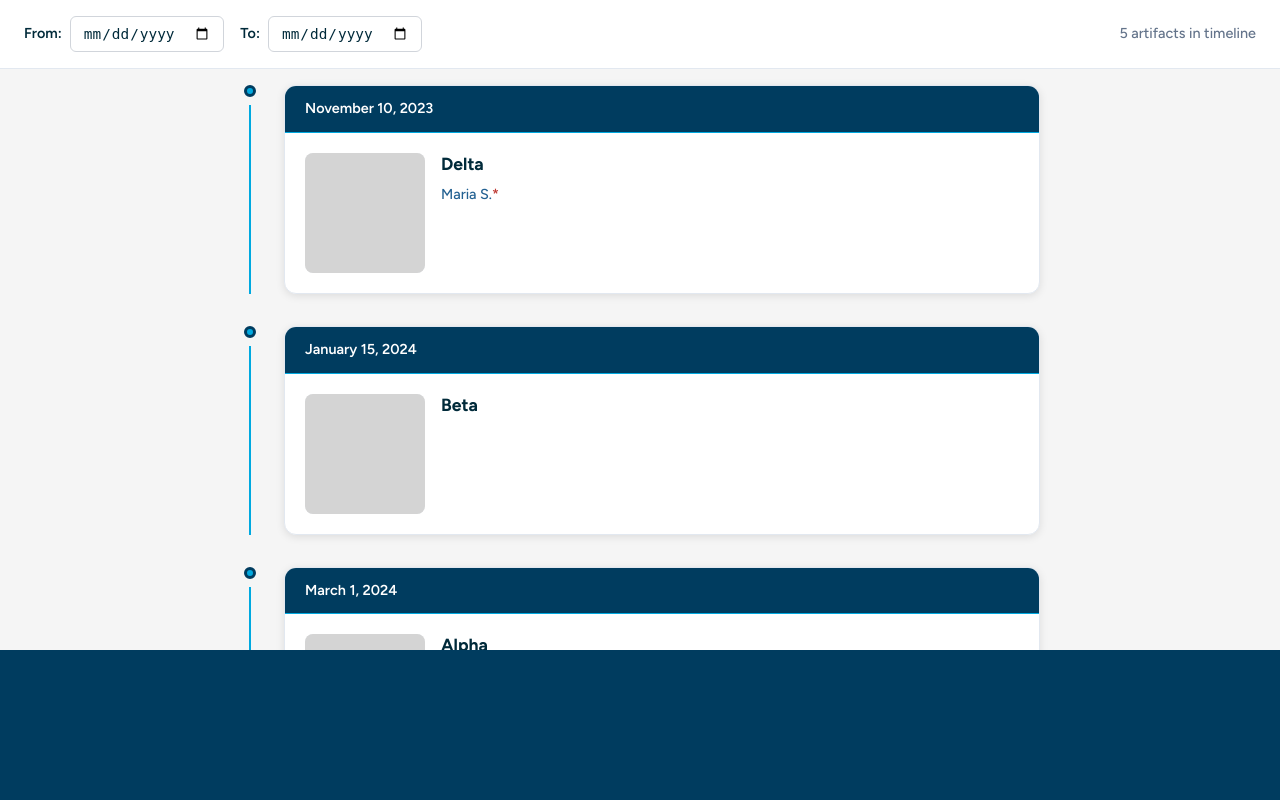
Test case: TimelineView — clear button › restores all artifacts and hides the Clear button after clicking it
The width and height of the screenshot is (1280, 800).
Type "2024-06-01" into the date field labelled "From:" at (147, 34), box [70,16,224,52]
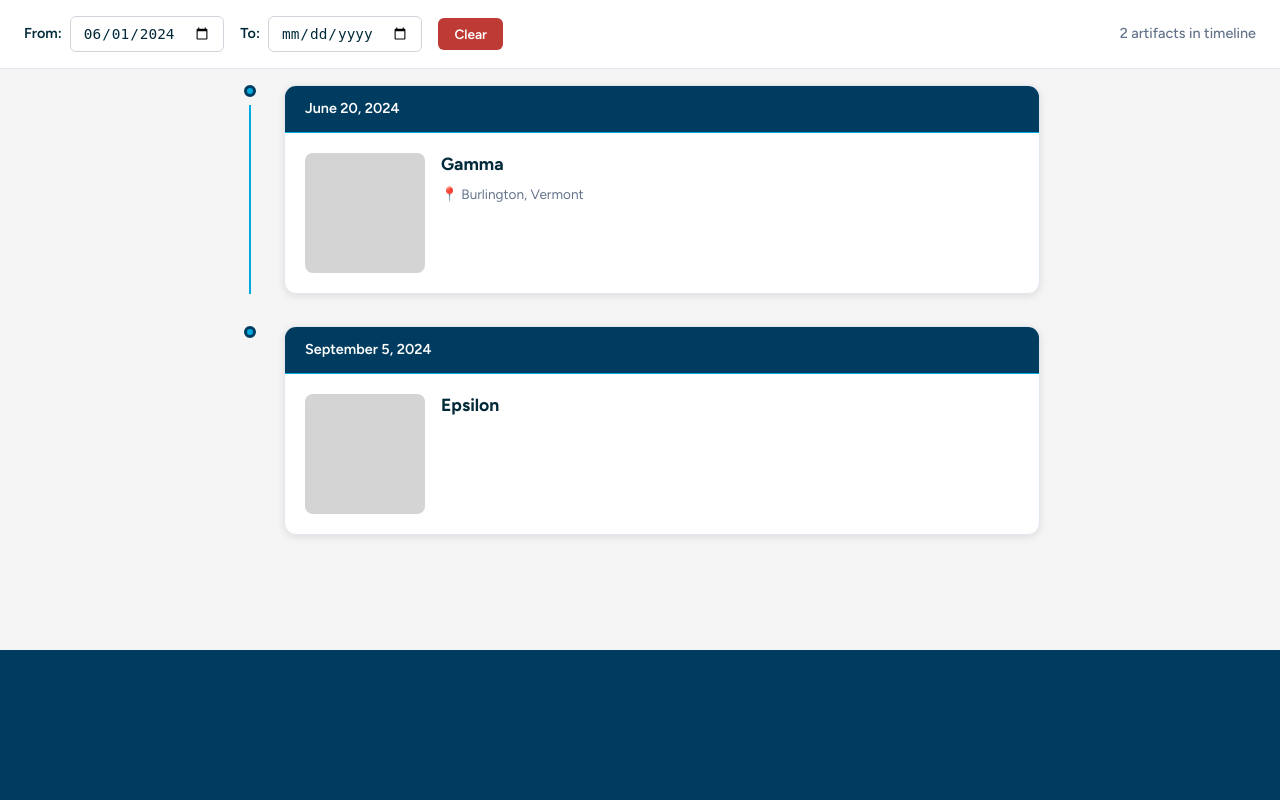
Result: the heading "Beta" is gone
Click the button "Clear" at (471, 34), box [438,18,503,50]
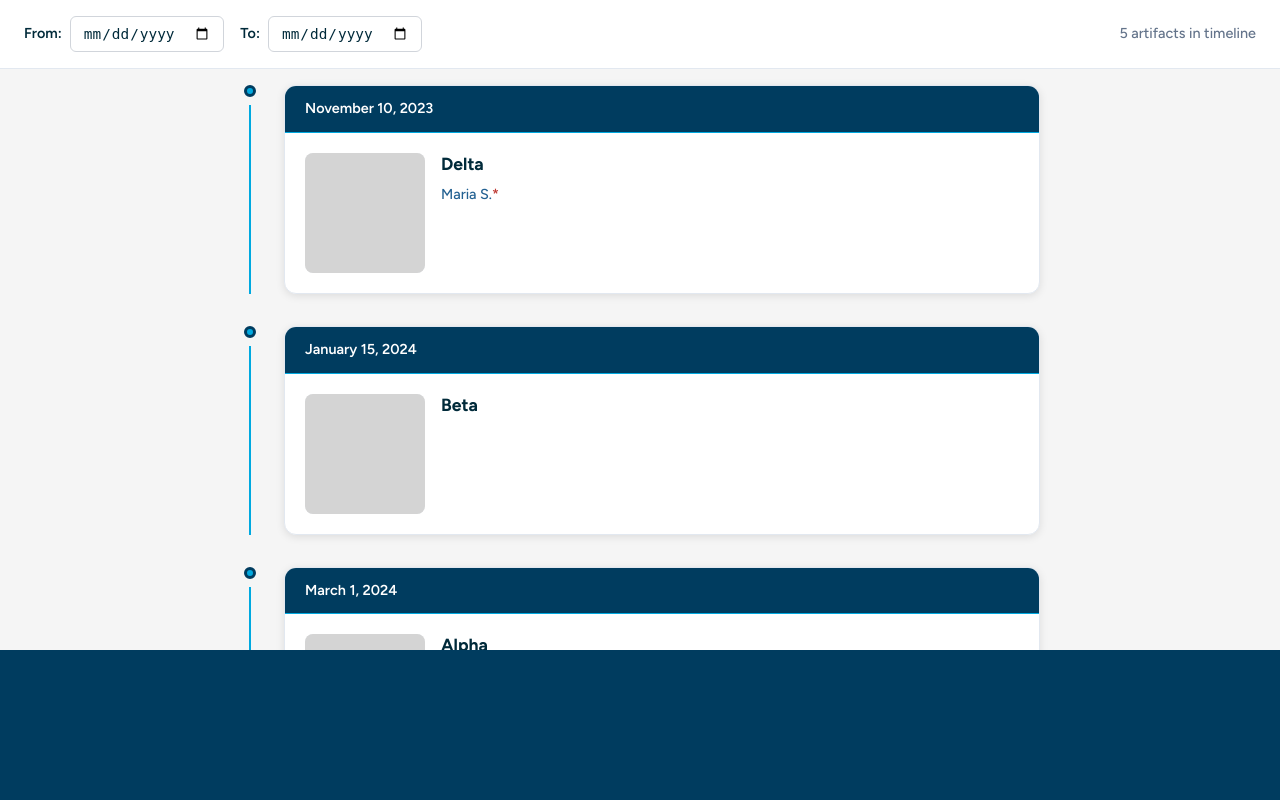
Result: the heading "Beta" is shown at [441,394,478,415]
Result: the text "5 artifacts in timeline" is shown at [1120,23,1256,45]
Result: the button "Clear" is gone
